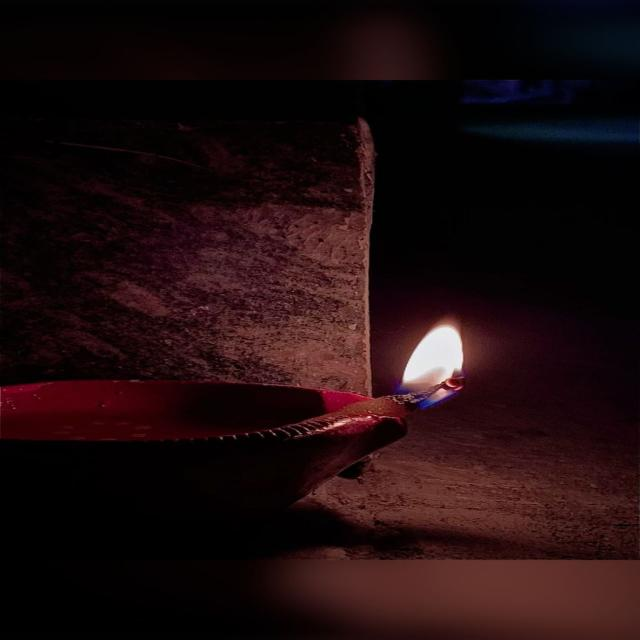fire: (398, 318, 466, 404)
